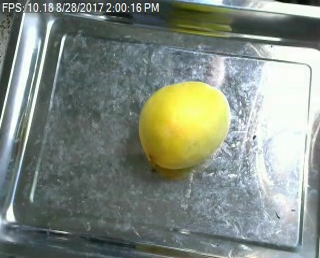Mango: (134, 76, 234, 175)
